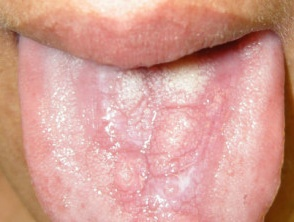SJS-TEN: (69, 48, 235, 222)
